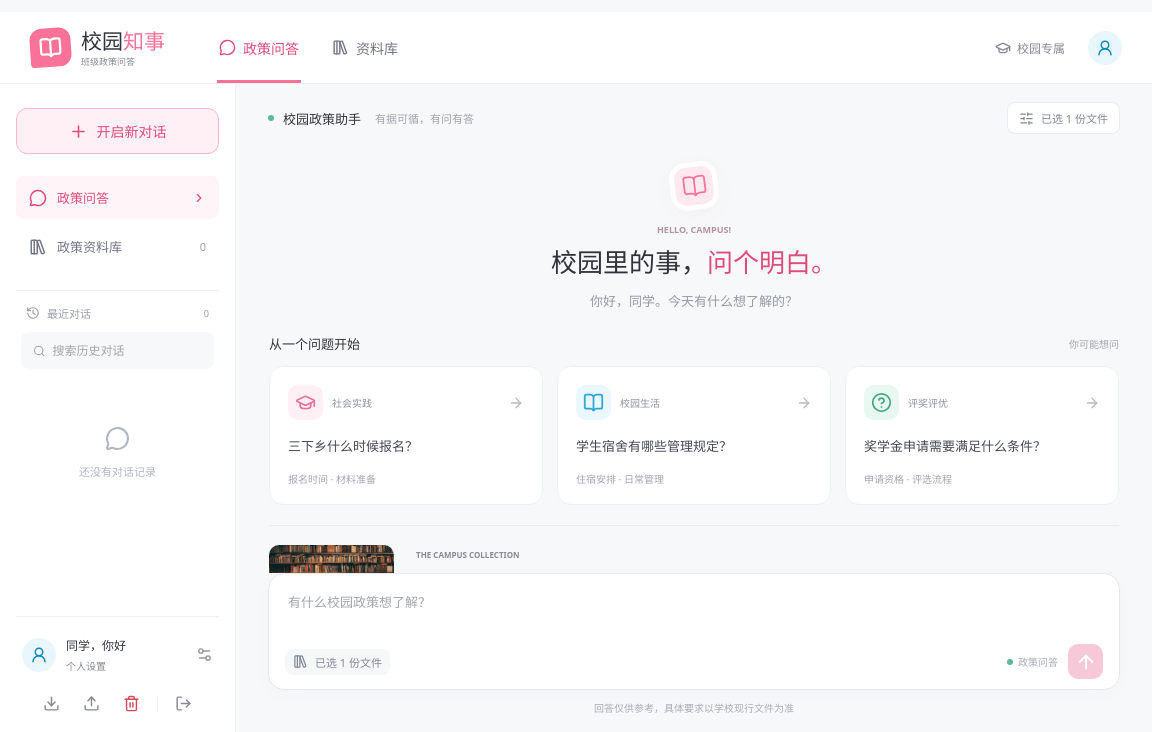
Test case: refusing expansion does not send second request
Step 1. Type "问题" into the text box named "问题" → (694, 616), box top-left (285, 588), bottom-right (1103, 644)
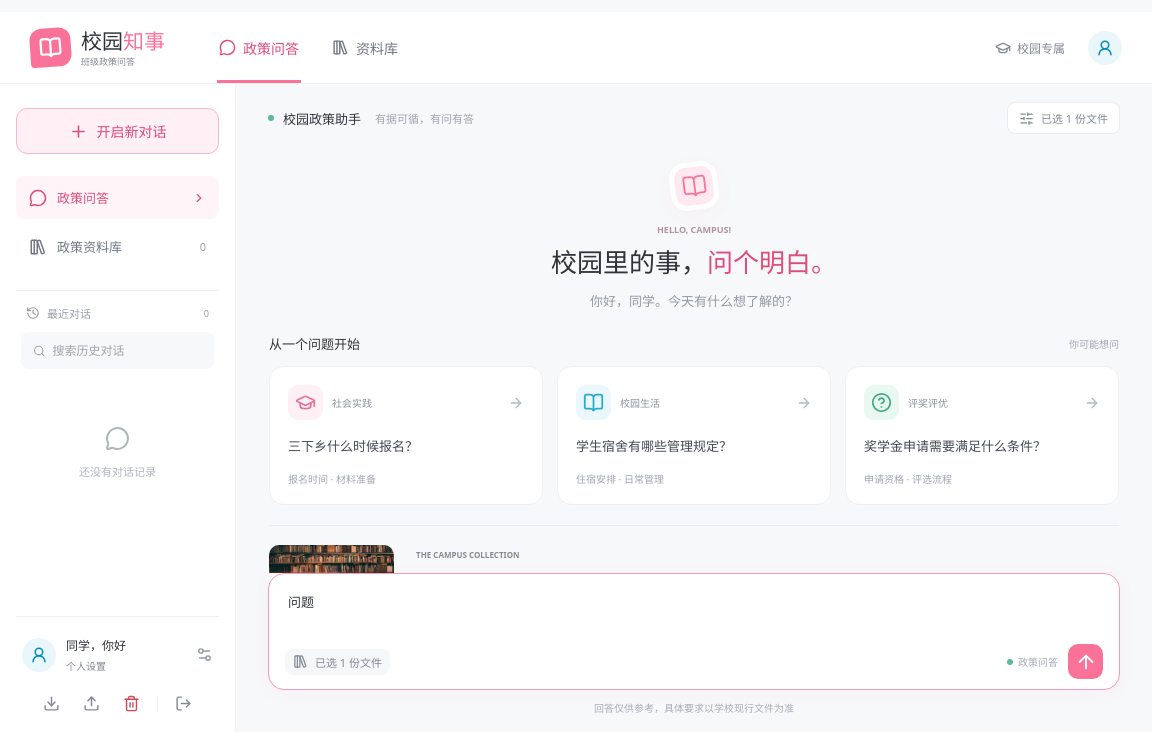
Step 2. Click the button named "发送" → (1086, 662), box top-left (1068, 644), bottom-right (1103, 679)
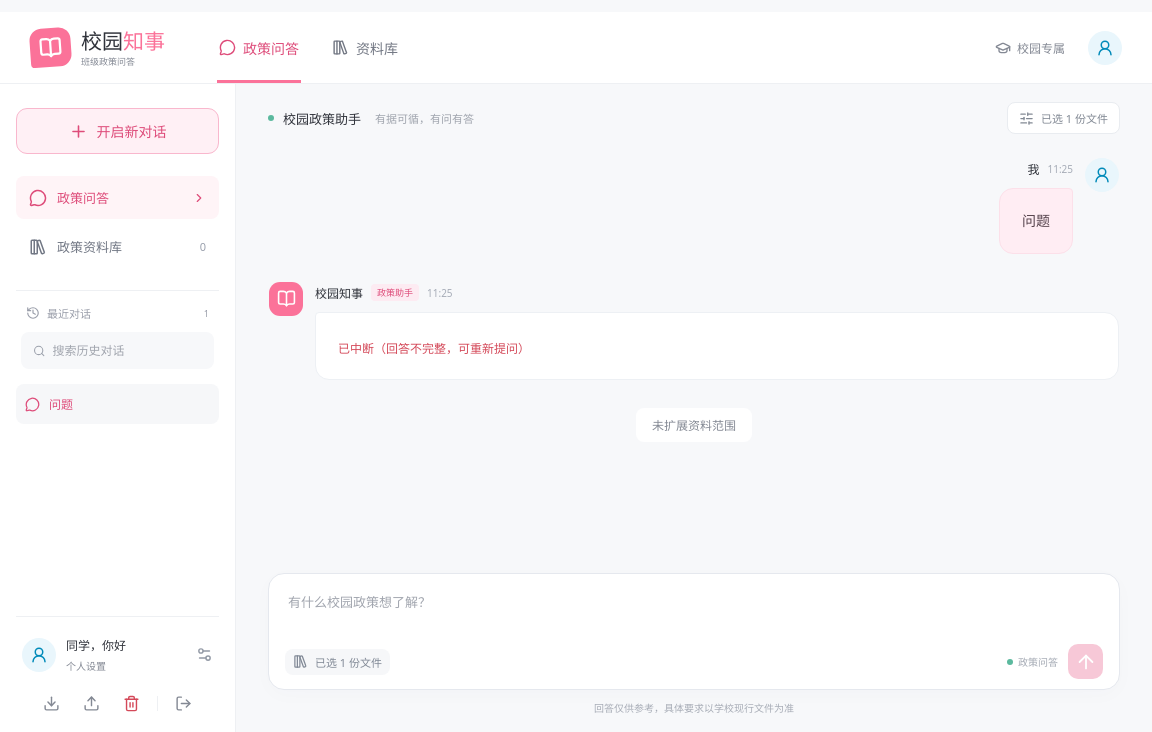
Check: the text "未扩展资料范围" is shown, box top-left (636, 408), bottom-right (752, 442)
